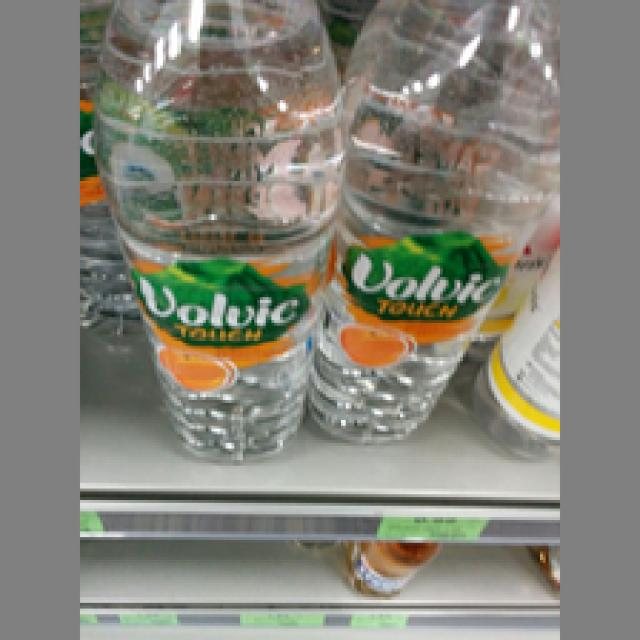groceries: (88, 0, 346, 463), (312, 0, 554, 437)
